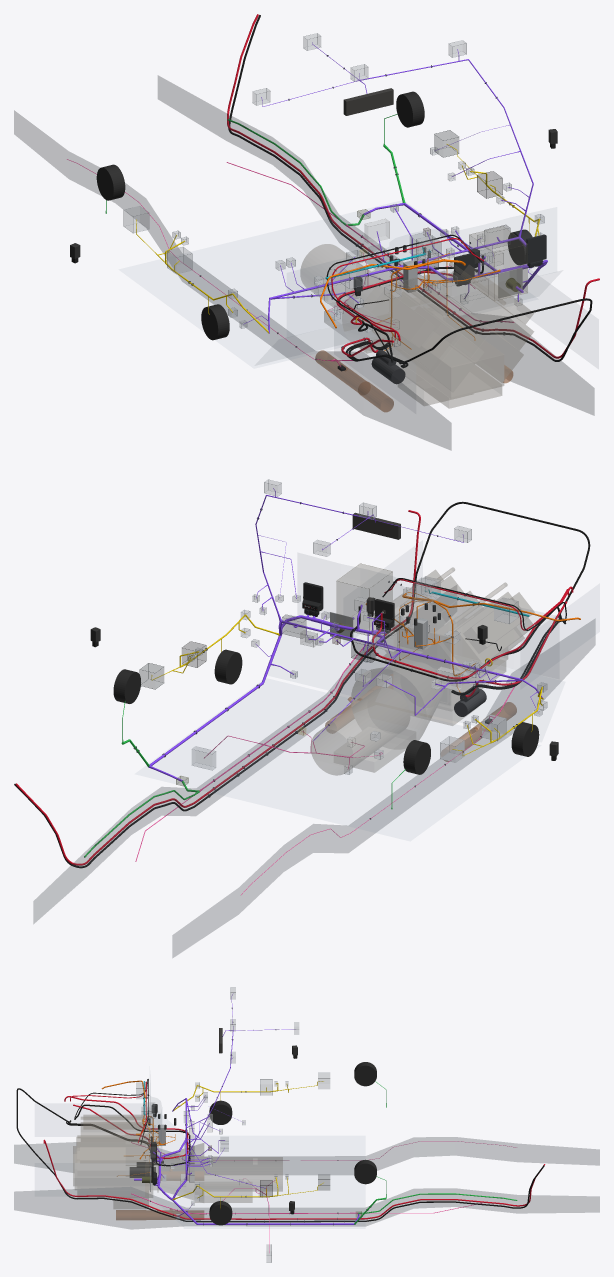
File: k5-harness-v4-cab.glb
3 views of the same model, one above another, from view 1: azimuth 30°, elevation 25°; view 2: azimuth 150°, elevation 25°; view 3: azimuth 270°, elevation 25° (orthographic). The views are drawn at different scales.
Parts seen in each view (by area): view 1: CTX-frame-rail-web-passenger, CTX-frame-rail-web-driver, E3_Block_Crankcase, E3_Block_Bank_R, E3_Head_R, E3_Block_Bank_L, IBOOSTER_fill, E3_Head_L, E3_OilPan_Shallow, E3_ValveCover_R, DC-AMP_GND, E3_6L90_Case (+11 smaller); view 2: CTX-frame-rail-web-passenger, CTX-frame-rail-web-driver, E3_6L90_Case, E3_6L90_Bell, IBOOSTER_fill, DC-AMP_GND, E3_RearCover, E3_Head_R, DC-32, E3_6L90_Pan, E3_ValveCover_R, E3_Block_Crankcase (+8 smaller); view 3: CTX-frame-rail-web-driver, CTX-frame-rail-web-passenger, E3_6L90_Case, E3_Head_L, E3_6L90_Bell, IBOOSTER_fill, DC-AMP_GND, E3_ValveCover_L, E3_Head_R, DC-32, E3_ValveCover_R, E3_Block_Crankcase (+8 smaller).
Part boxes in pixels (x1=…): CTX-frame-rail-web-passenger: x1=14, y1=110, x2=451, y2=450; CTX-frame-rail-web-driver: x1=158, y1=75, x2=594, y2=415; E3_Block_Crankcase: x1=389, y1=310, x2=503, y2=398; E3_Block_Bank_R: x1=372, y1=291, x2=483, y2=391; E3_Head_R: x1=363, y1=284, x2=456, y2=369; E3_Block_Bank_L: x1=419, y1=287, x2=523, y2=382; IBOOSTER_fill: x1=470, y1=227, x2=527, y2=300; E3_Head_L: x1=439, y1=270, x2=533, y2=350; E3_OilPan_Shallow: x1=395, y1=355, x2=501, y2=408; E3_ValveCover_R: x1=362, y1=284, x2=435, y2=347; DC-AMP_GND: x1=228, y1=15, x2=592, y2=364; E3_6L90_Case: x1=300, y1=244, x2=370, y2=312; CTX-frame-rail-web-passenger: x1=172, y1=619, x2=595, y2=957; CTX-frame-rail-web-driver: x1=33, y1=585, x2=456, y2=923; E3_6L90_Case: x1=311, y1=688, x2=409, y2=775; E3_6L90_Bell: x1=351, y1=662, x2=442, y2=745; IBOOSTER_fill: x1=336, y1=564, x2=392, y2=634; DC-AMP_GND: x1=14, y1=501, x2=590, y2=868; E3_RearCover: x1=393, y1=623, x2=450, y2=705; E3_Head_R: x1=450, y1=592, x2=532, y2=664; DC-32: x1=15, y1=510, x2=420, y2=865; E3_6L90_Pan: x1=347, y1=729, x2=415, y2=772; E3_ValveCover_R: x1=463, y1=592, x2=534, y2=653; E3_Block_Crankcase: x1=396, y1=617, x2=507, y2=703; CTX-frame-rail-web-driver: x1=14, y1=1187, x2=599, y2=1229; CTX-frame-rail-web-passenger: x1=14, y1=1137, x2=599, y2=1174; E3_6L90_Case: x1=204, y1=1157, x2=282, y2=1191; E3_Head_L: x1=77, y1=1142, x2=148, y2=1175; E3_6L90_Bell: x1=159, y1=1143, x2=203, y2=1202; IBOOSTER_fill: x1=126, y1=1133, x2=158, y2=1176; DC-AMP_GND: x1=16, y1=1088, x2=544, y2=1222; E3_ValveCover_L: x1=80, y1=1144, x2=145, y2=1163; E3_Head_R: x1=81, y1=1122, x2=151, y2=1141; DC-32: x1=43, y1=1139, x2=545, y2=1219; E3_ValveCover_R: x1=83, y1=1115, x2=147, y2=1129; E3_Block_Crankcase: x1=75, y1=1152, x2=158, y2=1189.
Size of the model in its own units: 2.71 by 1.53 by 4.25.
